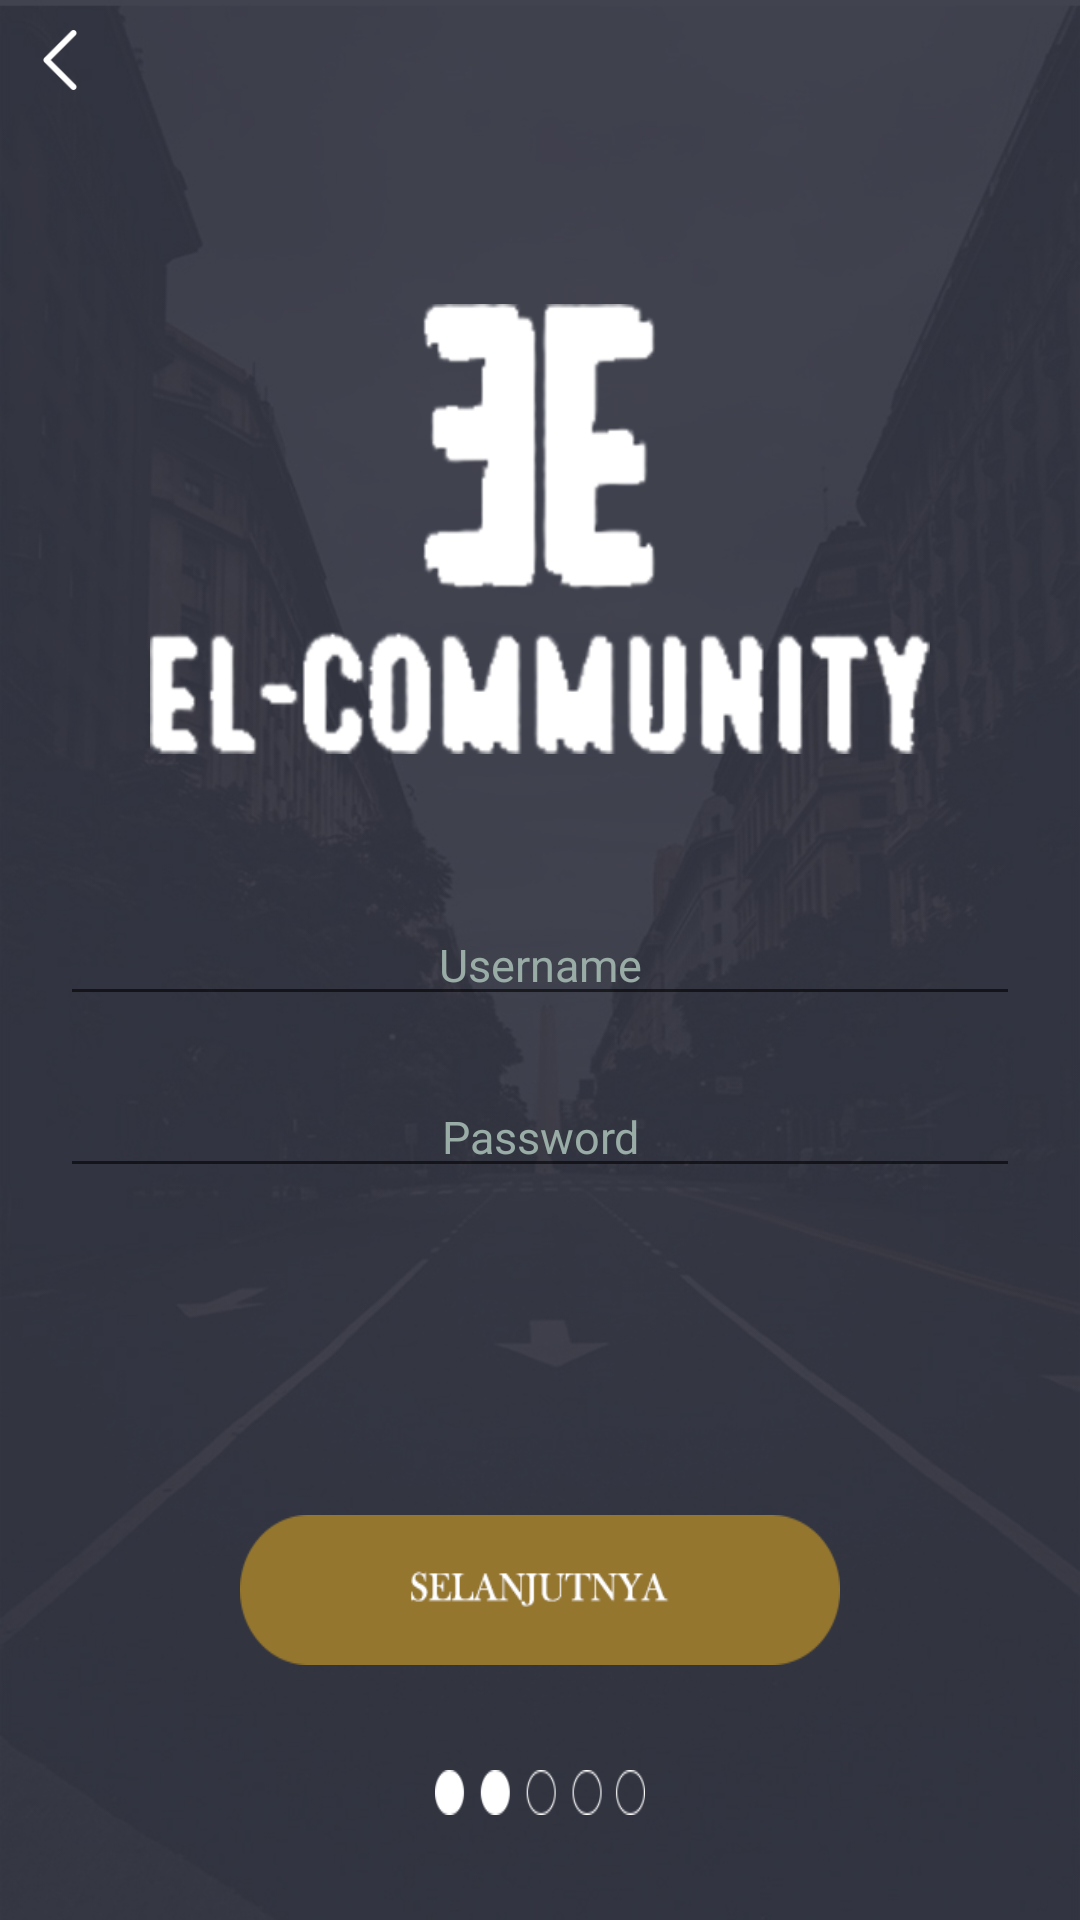

Screen size 1080 × 1920. Icon name, then its box in pixels as (x1, y1, x2, y2):
back: (43, 30, 77, 90)
